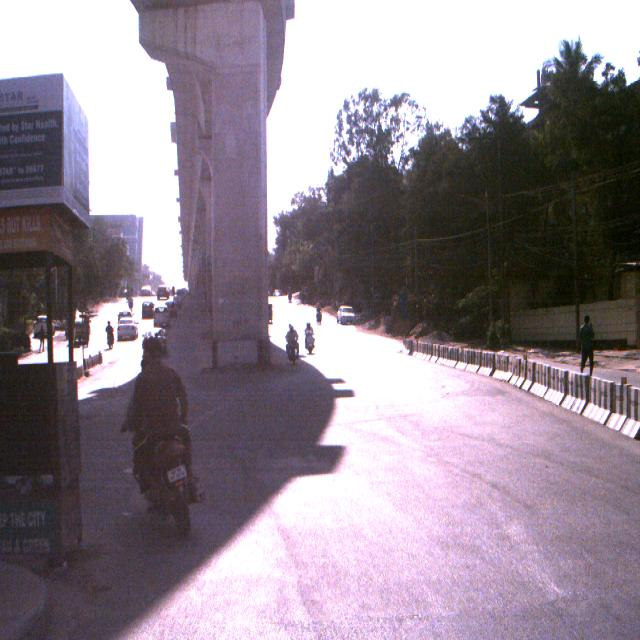motorcycle ahead at: (130, 422, 208, 538)
